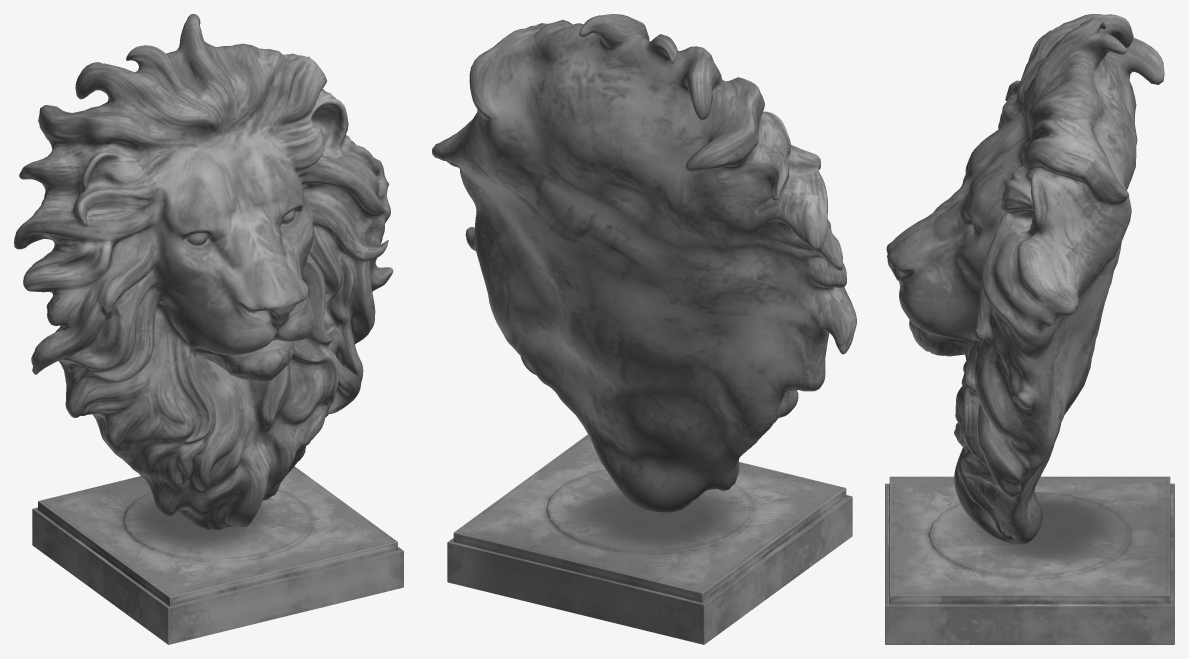
File: lion_head.glb
The picture shows the model from 3 angles, left to right: view 1: azimuth 30°, elevation 25°; view 2: azimuth 150°, elevation 25°; view 3: azimuth 270°, elevation 25°; orthographic projection. The views are drawn at different scales.
Visible parts, largest first — view 1: lion_head; view 2: lion_head; view 3: lion_head.
Part boxes in pixels (left/top/right/bottom): lion_head: left=14, top=14, right=403, bottom=644; lion_head: left=432, top=14, right=856, bottom=644; lion_head: left=885, top=14, right=1174, bottom=644.
Bounding box in the file's own units: 0.3208 × 0.4364 × 0.2066.
Materials: 1 (1 with a texture image).
